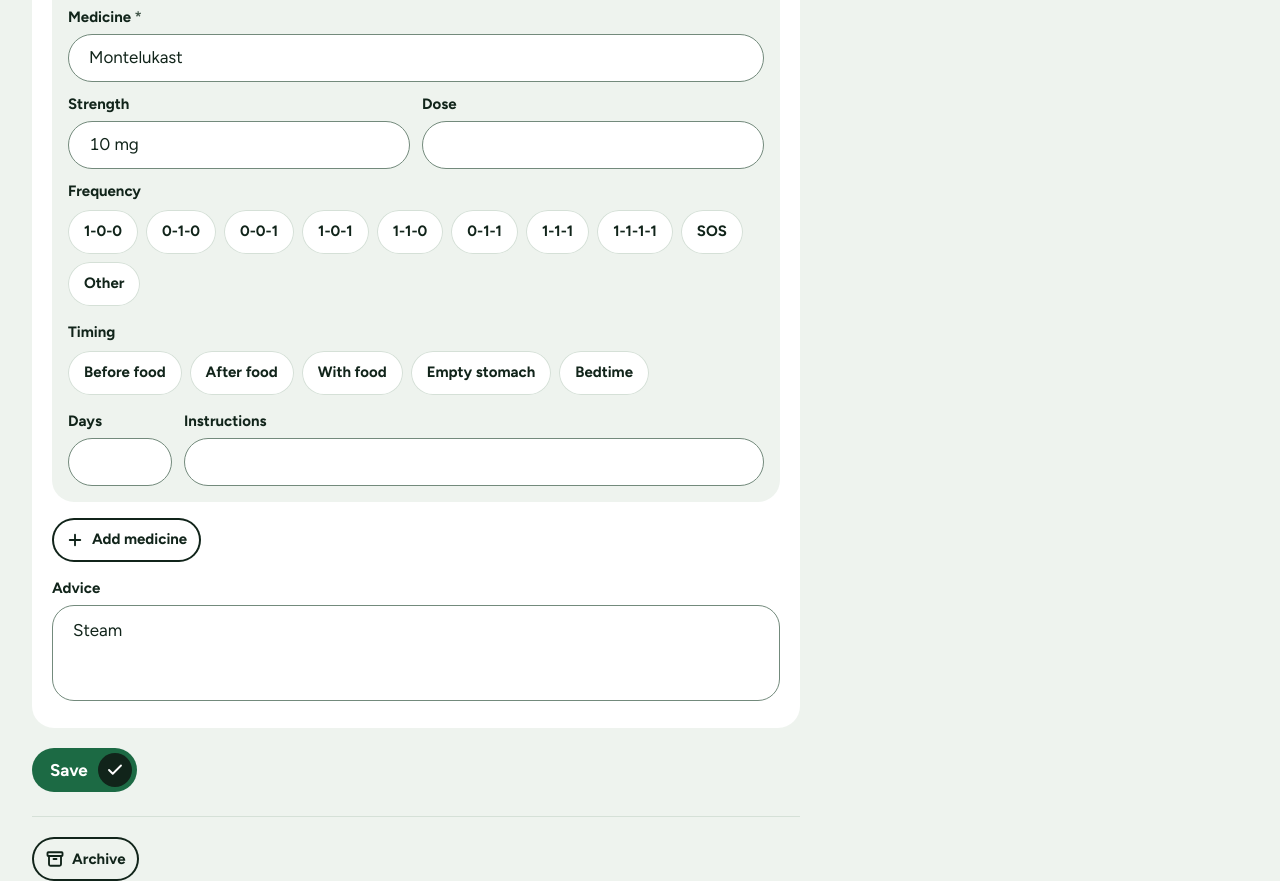
Scenario: TemplateEditor for one of the doctor's templates (D242) › says why a change was refused, and stays
The width and height of the screenshot is (1280, 881).
(page scrolled)
Click the button "Save". click: click(84, 770)
box: [32,748,137,792]
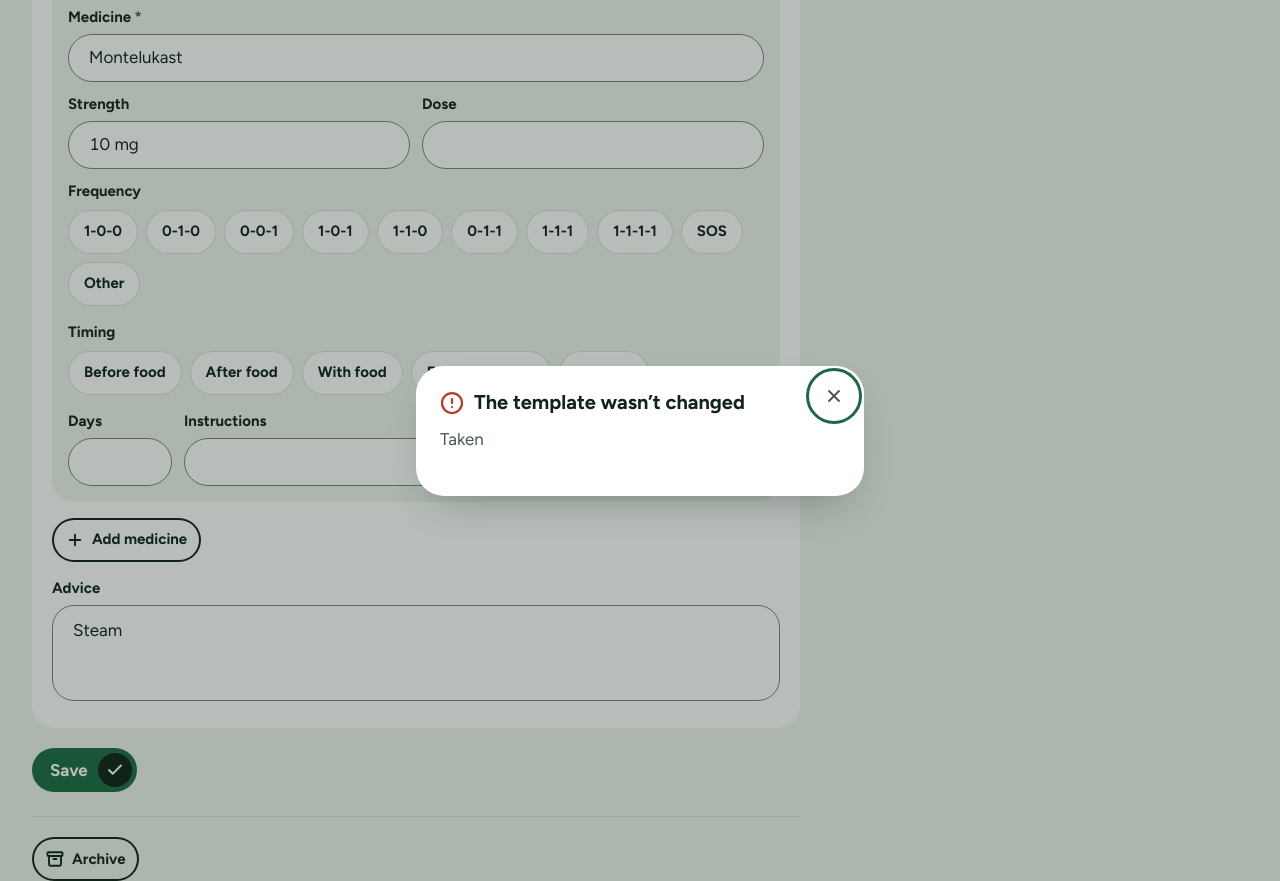
Expected: the dialog "The template wasn’t changed" is shown, [416,366,864,496]
